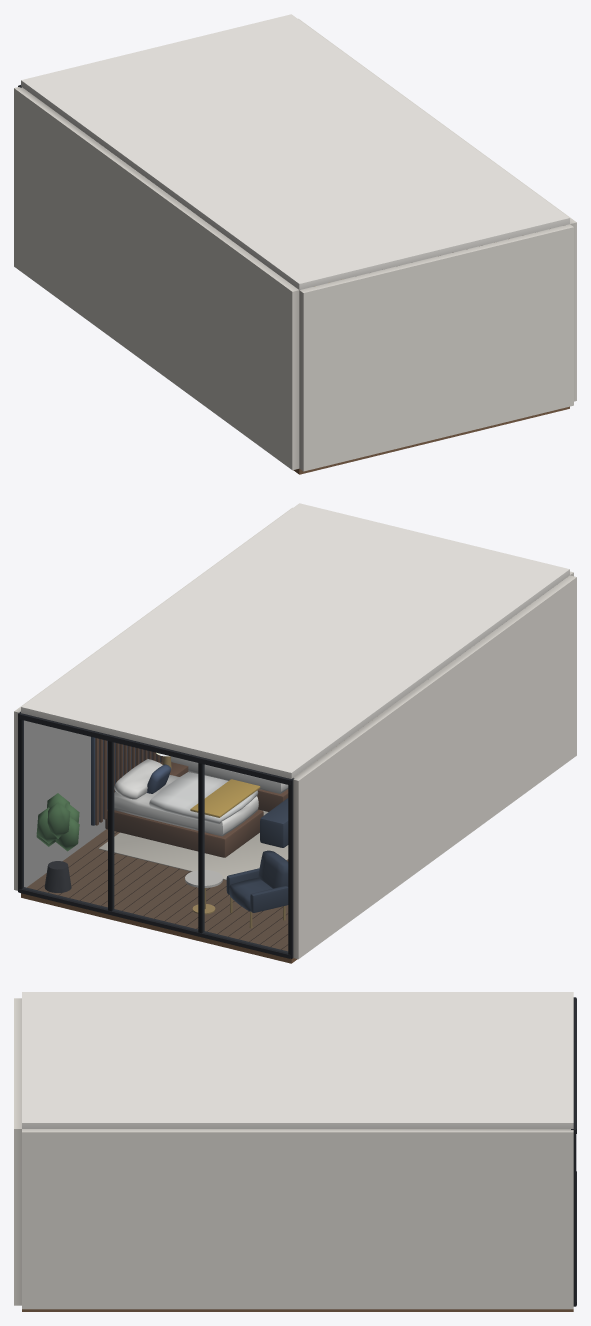
The model's file is tk-twin.glb.
3 views of the same model, one above another, from view 1: azimuth 30°, elevation 25°; view 2: azimuth 150°, elevation 25°; view 3: azimuth 270°, elevation 25° (orthographic).
Visible parts, largest first — view 1: Room_wall, Room_ceiling, Room_floor; view 2: Room_ceiling, Room_wall, Room_glass, Room_floor, Room_frameDark, Room_wood, Room_linen, Room_fabric2, Room_rug, Room_duvet, Room_leaf, Room_throw (+3 smaller); view 3: Room_wall, Room_ceiling, Room_floor, Room_frameDark.
Boxes of the visible parts, box(x1,y1,x2,y2) form: Room_wall: box(14, 18, 576, 471); Room_ceiling: box(21, 14, 569, 289); Room_floor: box(293, 406, 569, 474); Room_ceiling: box(21, 503, 569, 778); Room_wall: box(14, 507, 576, 959); Room_glass: box(23, 721, 287, 952); Room_floor: box(21, 829, 297, 963); Room_frameDark: box(18, 711, 294, 958); Room_wood: box(95, 738, 288, 857); Room_linen: box(114, 756, 288, 836); Room_fabric2: box(226, 798, 288, 912); Room_rug: box(98, 810, 288, 880); Room_duvet: box(149, 769, 264, 824); Room_leaf: box(36, 793, 79, 851); Room_throw: box(190, 779, 260, 817); Room_wall: box(14, 998, 573, 1309); Room_ceiling: box(22, 992, 573, 1128); Room_floor: box(22, 1309, 573, 1311); Room_frameDark: box(571, 997, 576, 1306).
Size of the model in its own units: 4.84 by 3.1 by 8.37.
